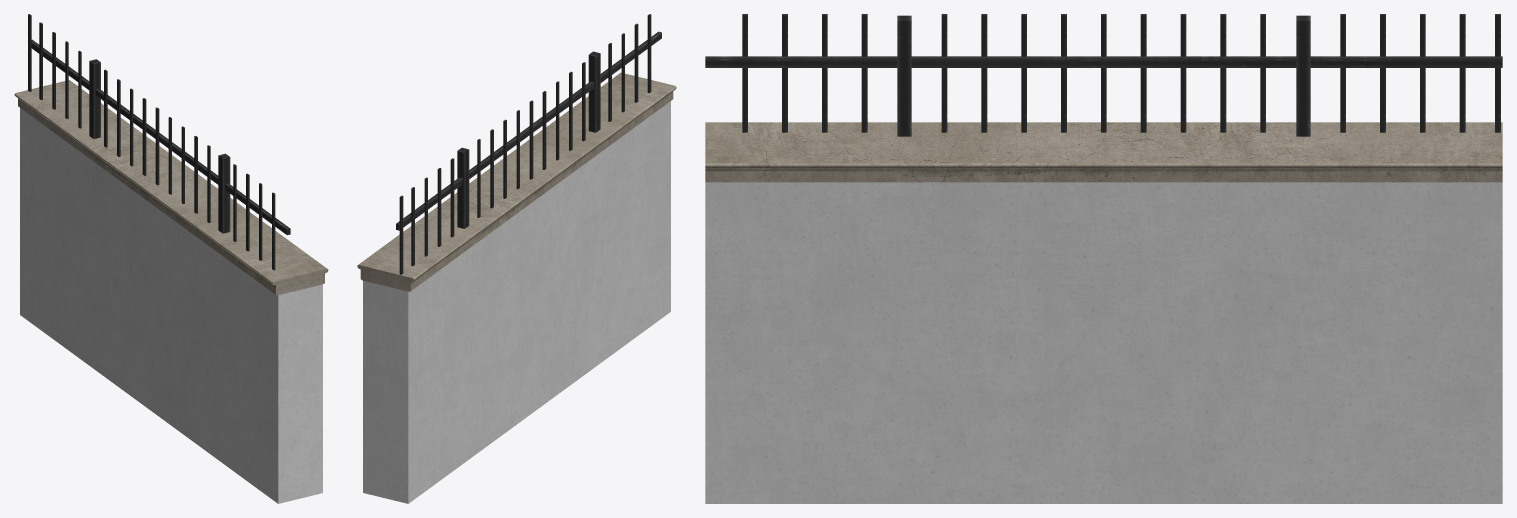
File: MB_Fence_B_4m.fbx
The picture shows the model from 3 angles, left to right: view 1: azimuth 30°, elevation 25°; view 2: azimuth 150°, elevation 25°; view 3: azimuth 270°, elevation 25°; orthographic projection. The views are drawn at different scales.
Visible parts, largest first — view 1: MB_Fence_B_4m_LOD0; view 2: MB_Fence_B_4m_LOD0; view 3: MB_Fence_B_4m_LOD0.
Boxes of the visible parts, x1,y1,x2,y2 form: MB_Fence_B_4m_LOD0: (14,14,328,503); MB_Fence_B_4m_LOD0: (357,14,676,503); MB_Fence_B_4m_LOD0: (705,14,1502,503).
Size of what is drawn, in the model's own units: 50.05 by 256 by 400.
